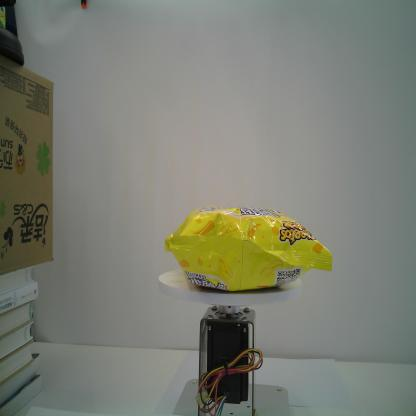Puffed Food: (164, 203, 334, 295)
